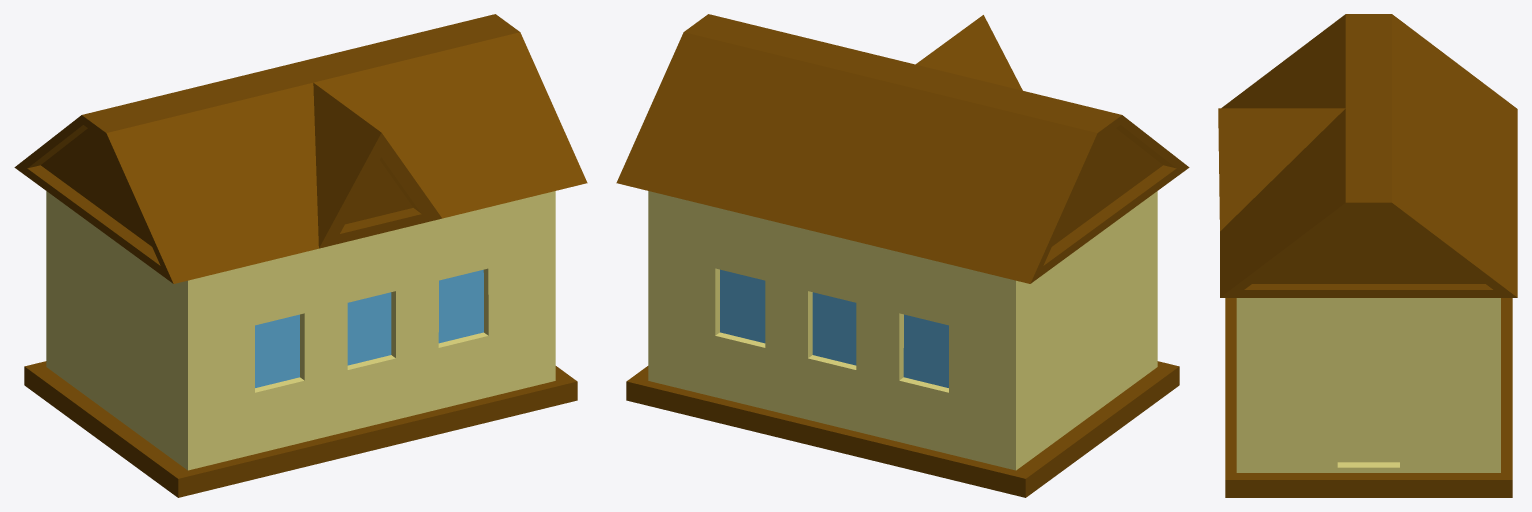
File: house.glb
3 renders of one model, left to right at view 1: azimuth 30°, elevation 25°; view 2: azimuth 150°, elevation 25°; view 3: azimuth 270°, elevation 25°, orthographic. The views are drawn at different scales.
Visible parts, largest first — view 1: Object_3, Object_2, Object_4; view 2: Object_3, Object_2, Object_4; view 3: Object_3, Object_2.
Boxes of the visible parts, box(x1,y1,x2,y2) form: Object_3: box(14, 14, 587, 497); Object_2: box(46, 191, 555, 470); Object_4: box(255, 269, 483, 387); Object_3: box(616, 14, 1189, 497); Object_2: box(648, 191, 1157, 470); Object_4: box(720, 269, 948, 387); Object_3: box(1218, 14, 1517, 497); Object_2: box(1236, 298, 1500, 472).
Bounding box in the file's own units: 3.15 × 2.32 × 2.11.
